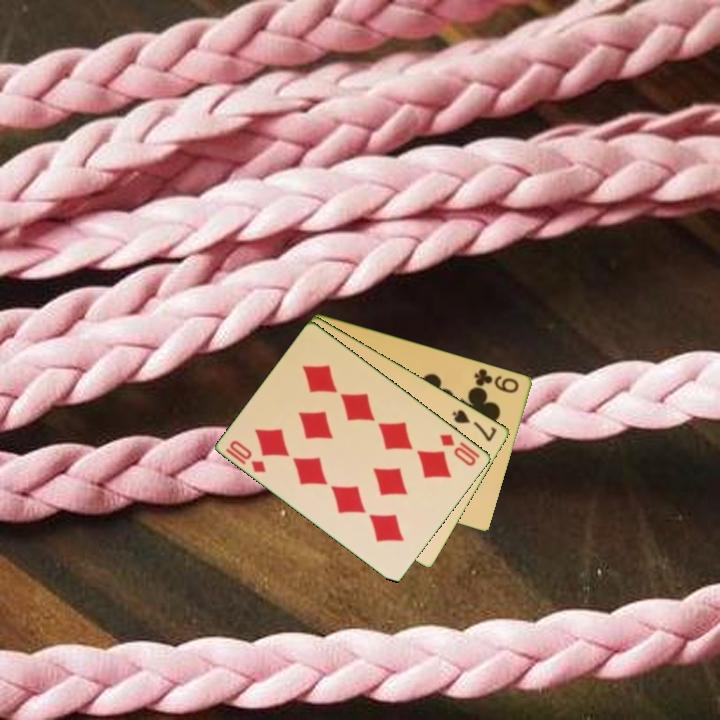10d: (222, 436, 270, 476), (437, 430, 479, 469)
7s: (449, 406, 500, 444)
9c: (471, 365, 522, 396)
